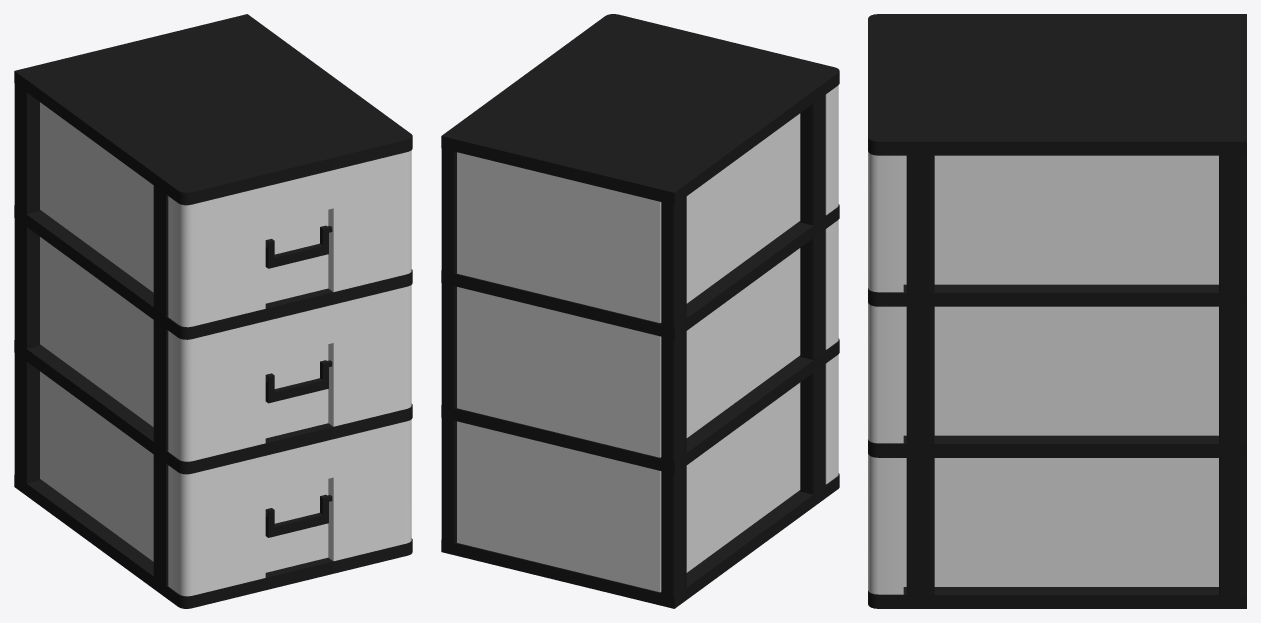
The model's file is Drawer24.fbx.
The picture shows the model from 3 angles, left to right: view 1: azimuth 30°, elevation 25°; view 2: azimuth 150°, elevation 25°; view 3: azimuth 270°, elevation 25°; orthographic projection. The views are drawn at different scales.
Parts seen in each view (by area): view 1: Drawer24_Body, Drawer24_2, Drawer24_3, Drawer24_1; view 2: Drawer24_Body, Drawer24_3, Drawer24_1, Drawer24_2; view 3: Drawer24_Body, Drawer24_2, Drawer24_1, Drawer24_3.
Part boxes in pixels (x1,y1,x2,y2): Drawer24_Body: [14, 14, 412, 608]; Drawer24_2: [40, 237, 411, 461]; Drawer24_3: [40, 371, 411, 596]; Drawer24_1: [40, 102, 411, 327]; Drawer24_Body: [441, 14, 839, 608]; Drawer24_3: [457, 354, 838, 592]; Drawer24_1: [457, 85, 838, 322]; Drawer24_2: [457, 220, 838, 457]; Drawer24_Body: [868, 14, 1246, 608]; Drawer24_2: [868, 303, 1218, 443]; Drawer24_1: [868, 151, 1218, 292]; Drawer24_3: [868, 454, 1218, 594].
Size of the model in its own units: 33.6 by 57.31 by 42.12.
